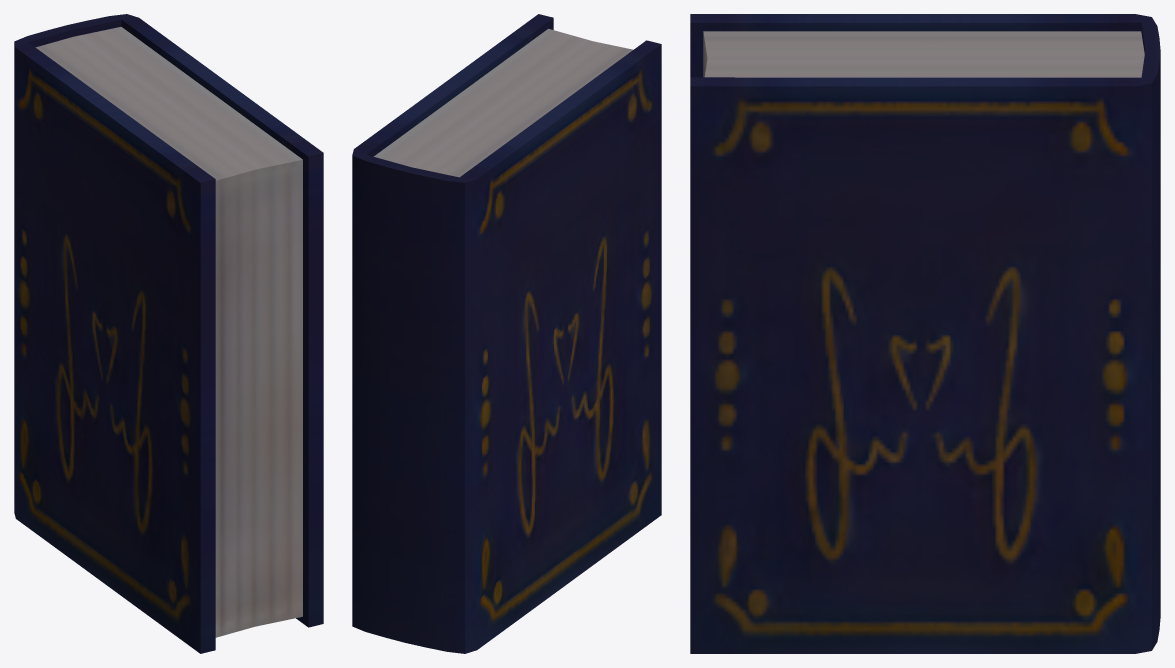
File: Book #2.fbx
3 renders of one model, left to right at view 1: azimuth 30°, elevation 25°; view 2: azimuth 150°, elevation 25°; view 3: azimuth 270°, elevation 25°, orthographic. The views are drawn at different scales.
Visible parts, largest first — view 1: Book001; view 2: Book001; view 3: Book001.
Part boxes in pixels (<box>): Book001: <box>14,14,323,653</box>; Book001: <box>352,14,661,653</box>; Book001: <box>690,14,1160,653</box>.
Size of the model in its own units: 2.5 by 9.11 by 6.84.
